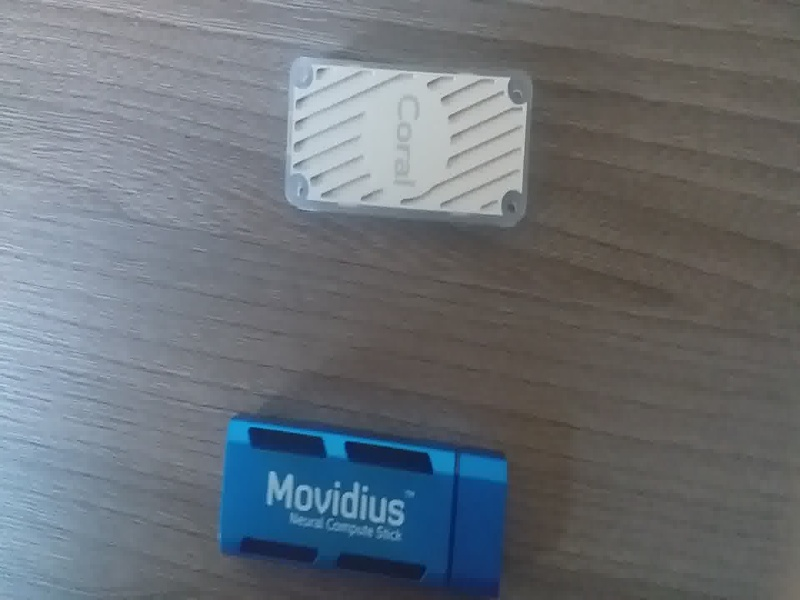coral: (275, 53, 546, 241)
movidius: (208, 406, 527, 600)
